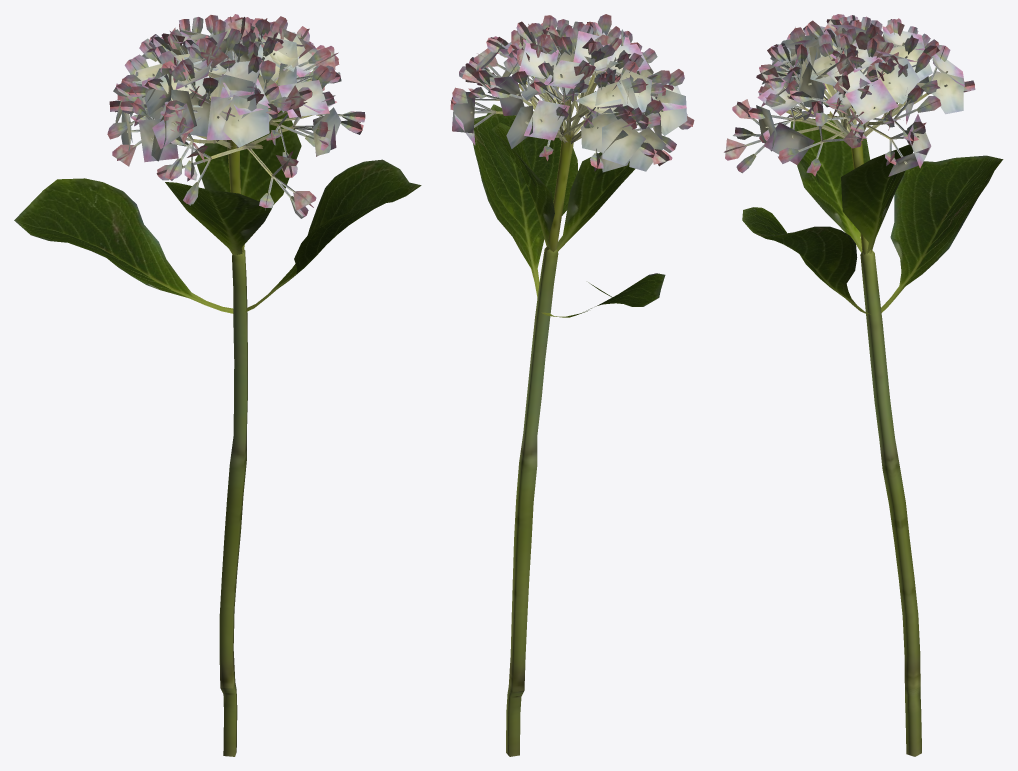
File: Hydrangea_baby_short_peach.glb
The picture shows the model from 3 angles, left to right: view 1: azimuth 30°, elevation 25°; view 2: azimuth 150°, elevation 25°; view 3: azimuth 270°, elevation 25°; orthographic projection. The views are drawn at different scales.
Visible parts, largest first — view 1: BABY; view 2: BABY; view 3: BABY.
Boxes of the visible parts, x1,y1,x2,y2 form: BABY: (14,14,421,756); BABY: (450,14,694,756); BABY: (724,14,1003,756).
Size of the model in its own units: 0.7928 by 2.03 by 0.7195.
Materials: 1 (1 with a texture image).
